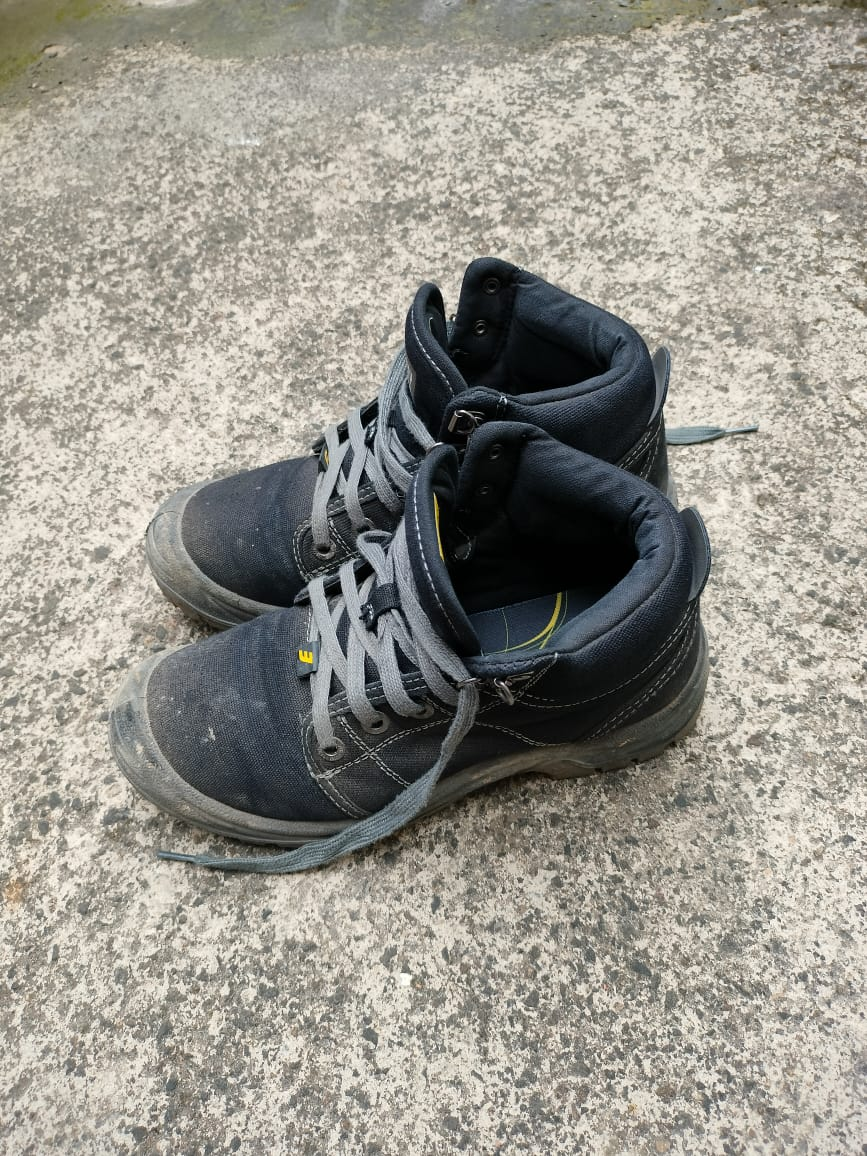SEPATU: (147, 394, 681, 822)
